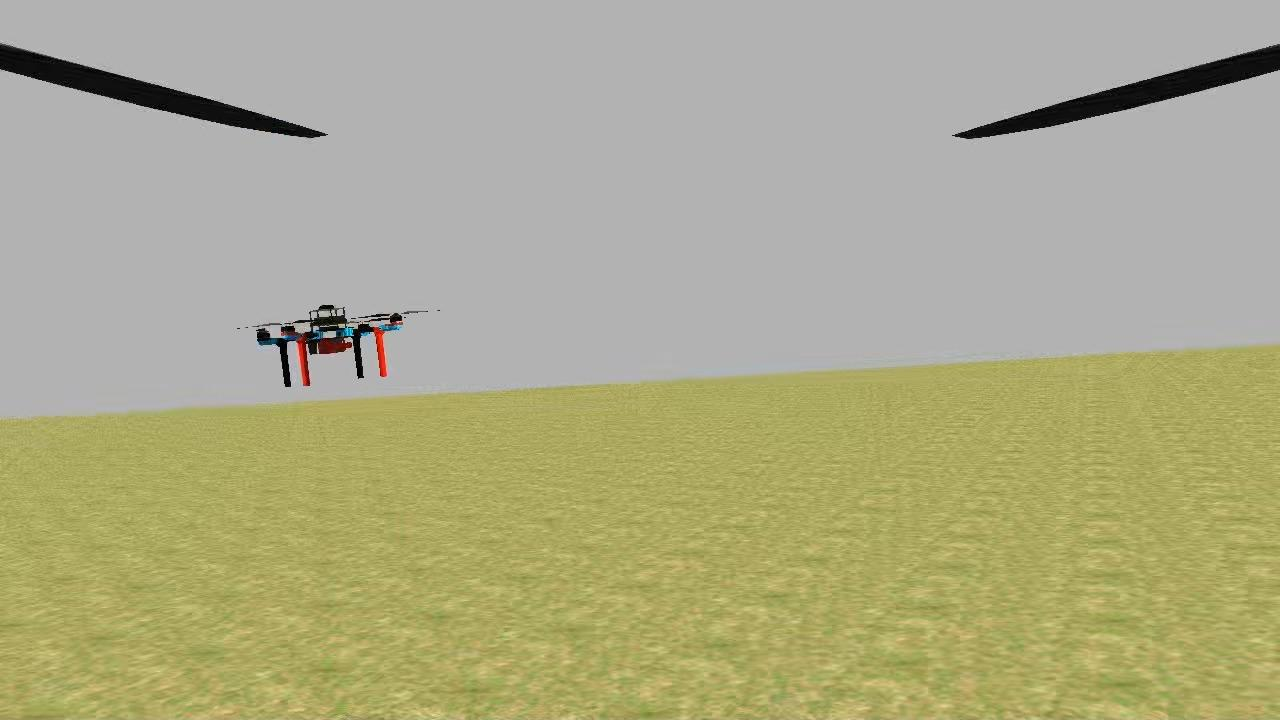UAV: (248, 296, 408, 394)
